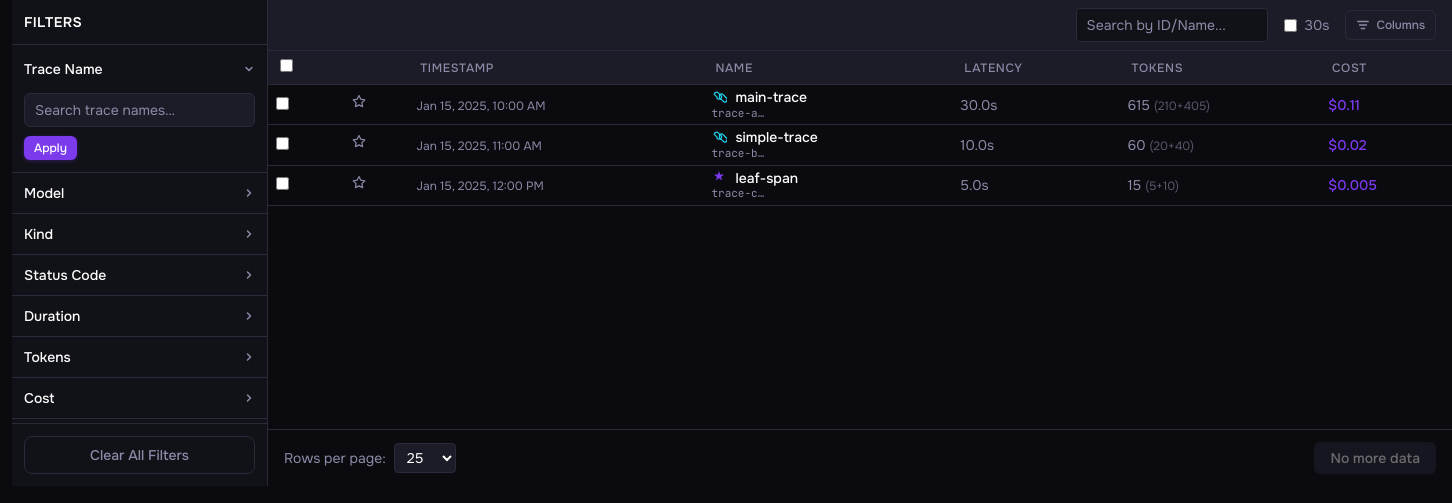
filter panel styling (#142) › selects all rows when the header checkbox is clicked
Expected: the table is shown, [268,51,1451,206]
Click the checkbox named "select all" at (286, 66), box [280,59,293,72]
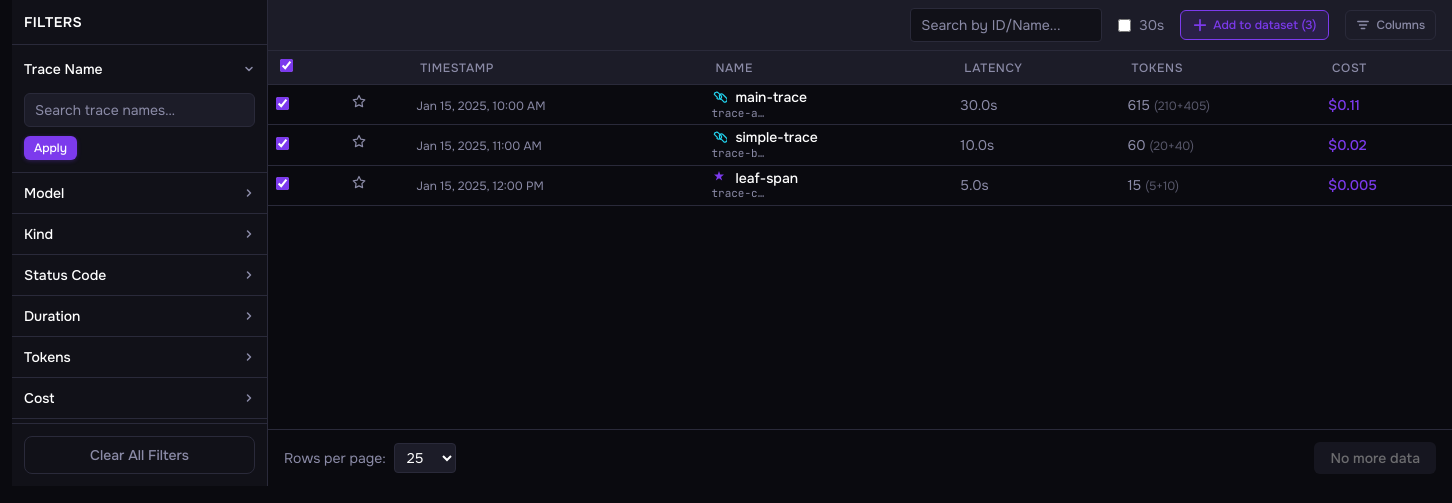
Expected: the checkbox named "select trace" is checked, [276,97,289,110]
